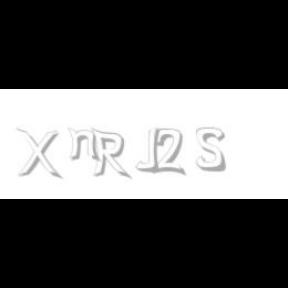2: (150, 128, 184, 176)
J: (134, 128, 160, 172)
R: (91, 128, 129, 180)
S: (197, 128, 228, 172)
X: (16, 128, 60, 180)
n: (67, 128, 101, 162)
